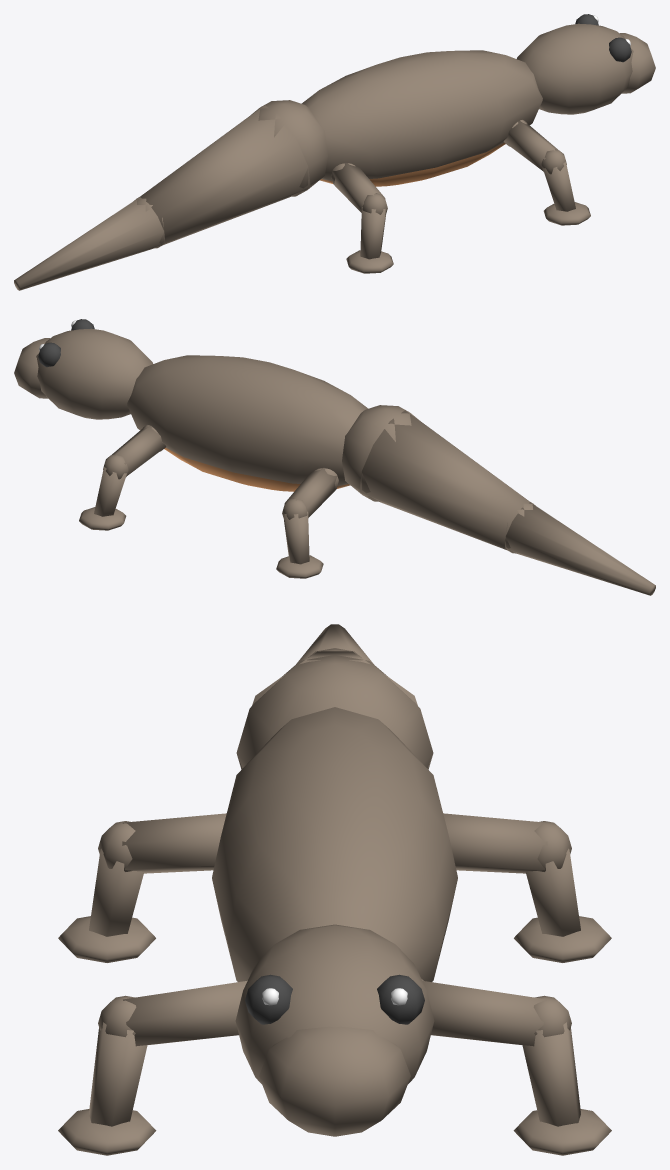
File: hong-kong-warty-newt.glb
3 views of the same model, one above another, from view 1: azimuth 30°, elevation 25°; view 2: azimuth 150°, elevation 25°; view 3: azimuth 270°, elevation 25° (orthographic). The views are drawn at different scales.
Parts seen in each view (by area): view 1: e, e.008, e.002, e.021, e.011; view 2: e, e.008, e.002, e.026, e.016; view 3: e, e.002, e.011, e.016, e.021, e.026, e.008.
Boxes of the visible parts, x1,y1,x2,y2 form: e: (301,50,542,186); e.008: (14,100,327,290); e.002: (517,14,655,114); e.021: (331,163,393,273); e.011: (503,120,590,225); e: (127,355,368,491); e.008: (342,405,655,595); e.002: (14,319,152,419); e.026: (276,468,338,578); e.016: (79,425,166,530); e: (212,707,457,981); e.002: (235,924,434,1136); e.011: (58,979,248,1155); e.016: (421,979,611,1155); e.021: (58,813,226,962); e.026: (443,813,611,962); e.008: (236,624,433,769).
Size of the model in its own units: 0.9056 by 0.1959 by 0.342.
